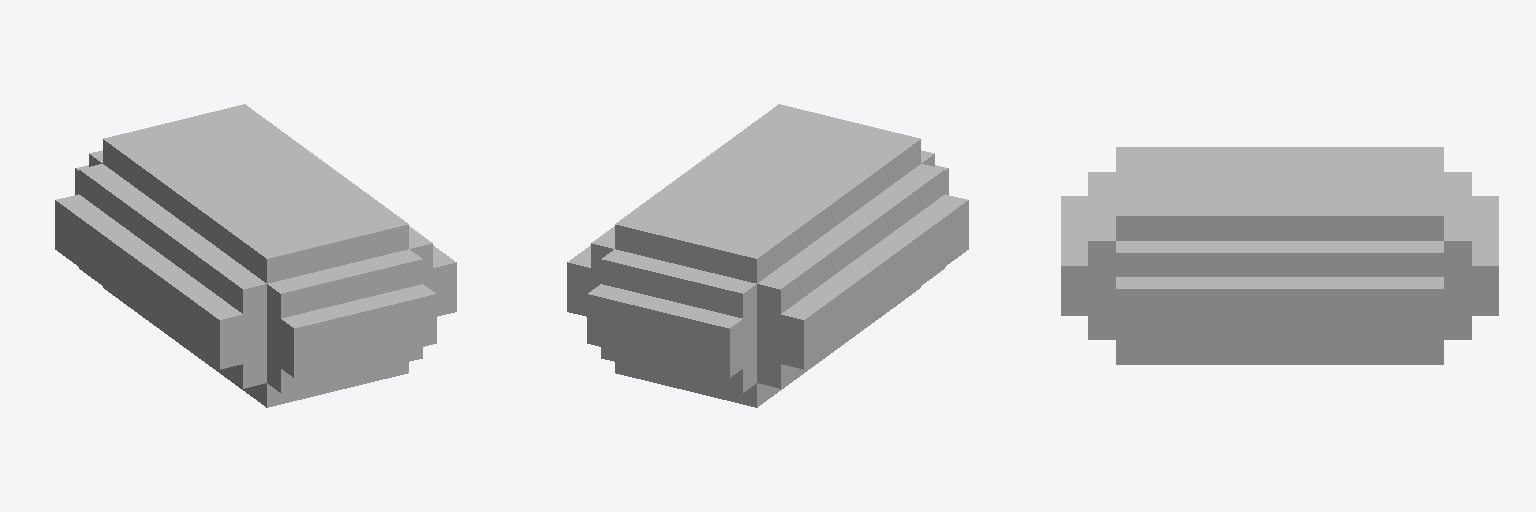
The model's file is Platform.obj.
The picture shows the model from 3 angles: view 1: azimuth 30°, elevation 25°; view 2: azimuth 150°, elevation 25°; view 3: azimuth 270°, elevation 25°; orthographic projection.
Parts seen in each view (by area): view 1: object 1; view 2: object 1; view 3: object 1.
Boxes of the visible parts, box(x1,y1,x2,y2) form: object 1: box(55, 104, 456, 407); object 1: box(567, 104, 968, 407); object 1: box(1061, 147, 1498, 364).
Size of the model in its own units: 1 by 0.6 by 1.6.